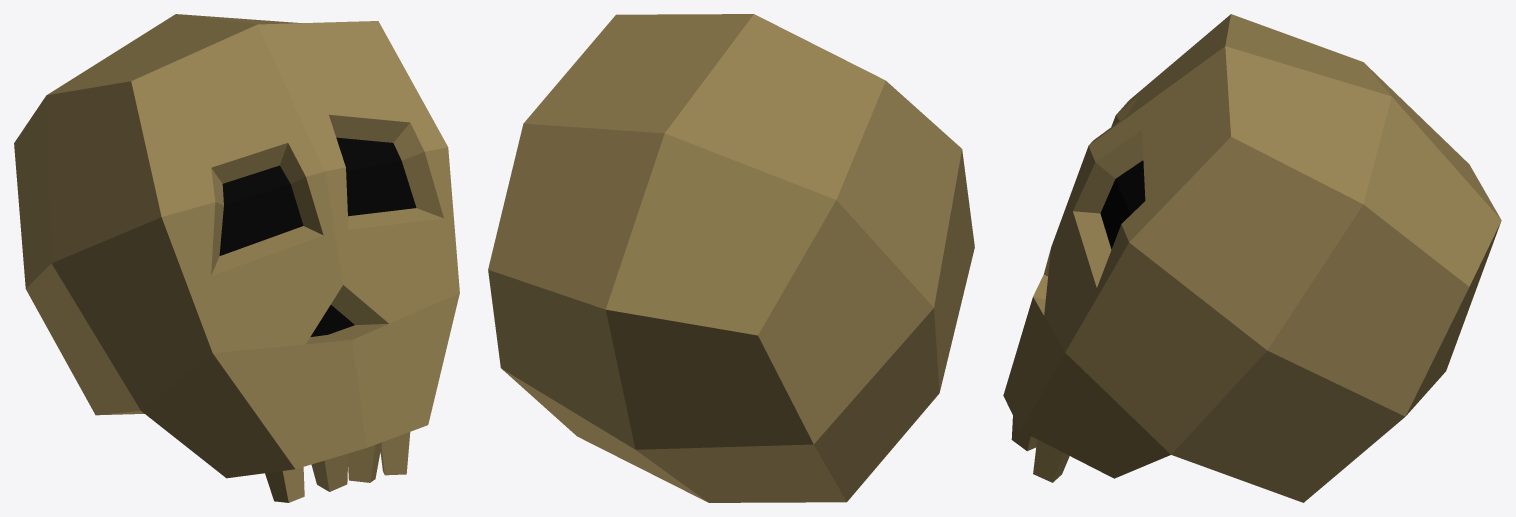
Rendered from Scull.fbx.
3 views of the same model, side by side, from view 1: azimuth 30°, elevation 25°; view 2: azimuth 150°, elevation 25°; view 3: azimuth 270°, elevation 25° (orthographic). The views are drawn at different scales.
Parts seen in each view (by area): view 1: Scull; view 2: Scull; view 3: Scull.
Part boxes in pixels (box(x1,y1,x2,y2)): Scull: box(14, 14, 459, 502); Scull: box(488, 14, 974, 502); Scull: box(1003, 14, 1501, 502).
Bounding box in the file's own units: 29.17 × 31.38 × 33.36.
